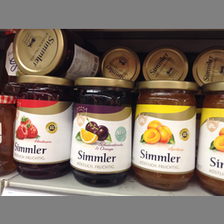jam: (70, 76, 135, 188), (133, 82, 198, 191), (13, 76, 72, 180), (196, 82, 224, 192)
